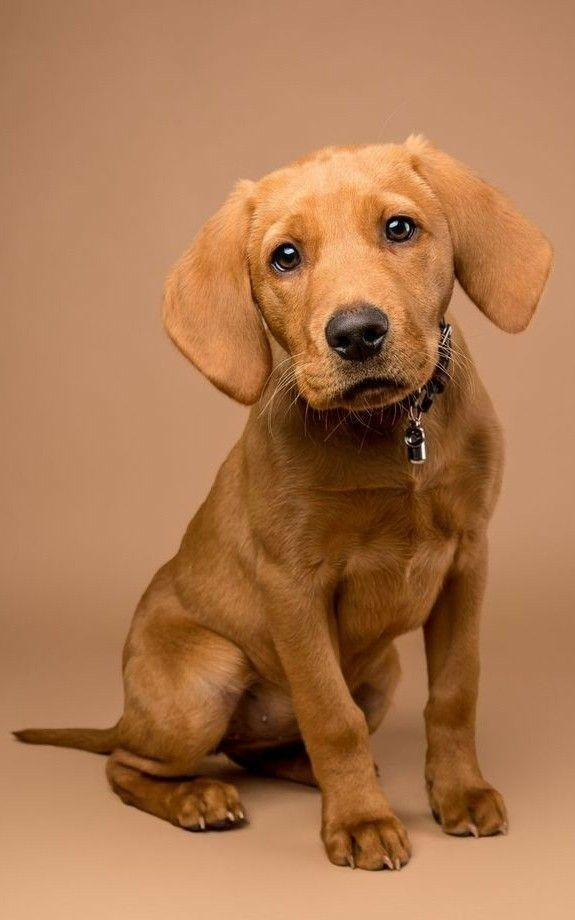puppy-dog: (11, 128, 557, 874)
